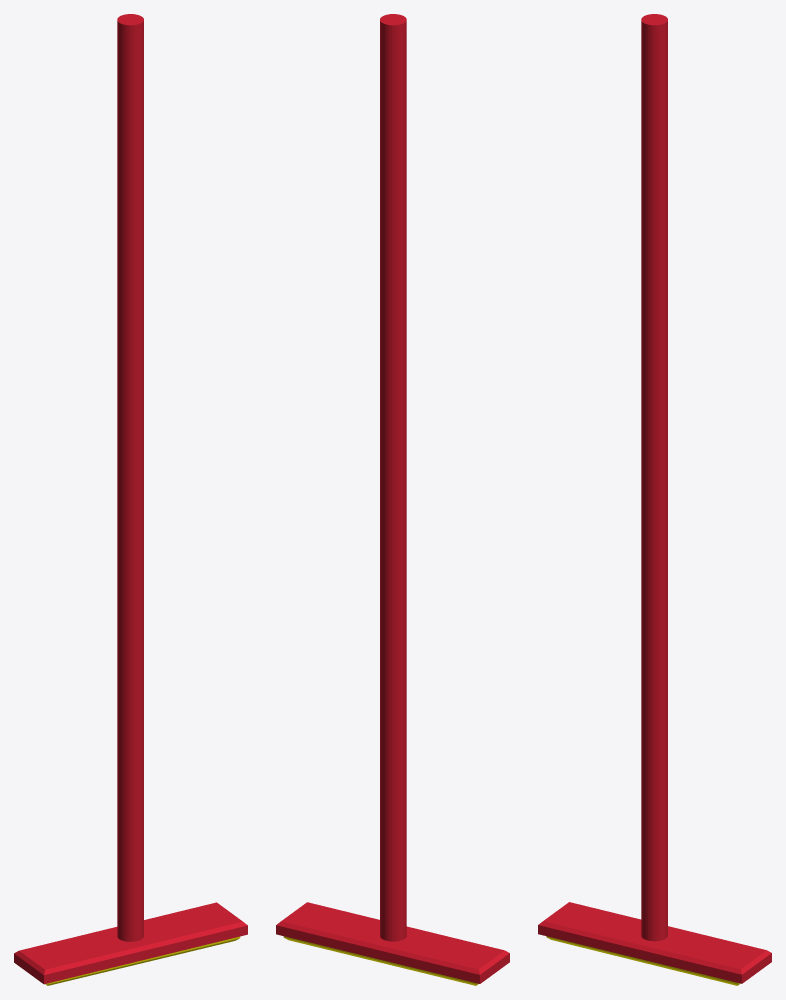
The model's file is Mop.fbx.
3 views of the same model, side by side, from view 1: azimuth 30°, elevation 25°; view 2: azimuth 150°, elevation 25°; view 3: azimuth 330°, elevation 25° (orthographic).
Visible parts, largest first — view 1: MopHandle, Spongue; view 2: MopHandle, Spongue; view 3: MopHandle, Spongue.
Part boxes in pixels (x1,y1,x2,y2): MopHandle: (14, 14, 247, 984); Spongue: (45, 936, 240, 985); MopHandle: (276, 14, 509, 983); Spongue: (283, 936, 478, 985); MopHandle: (538, 14, 771, 983); Spongue: (546, 936, 740, 985).
Bounding box in the file's own units: 790 × 3463 × 200.
